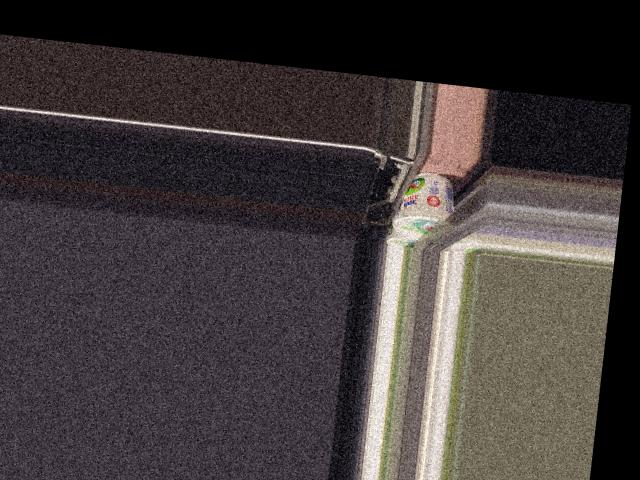cotage: (395, 171, 459, 243)
